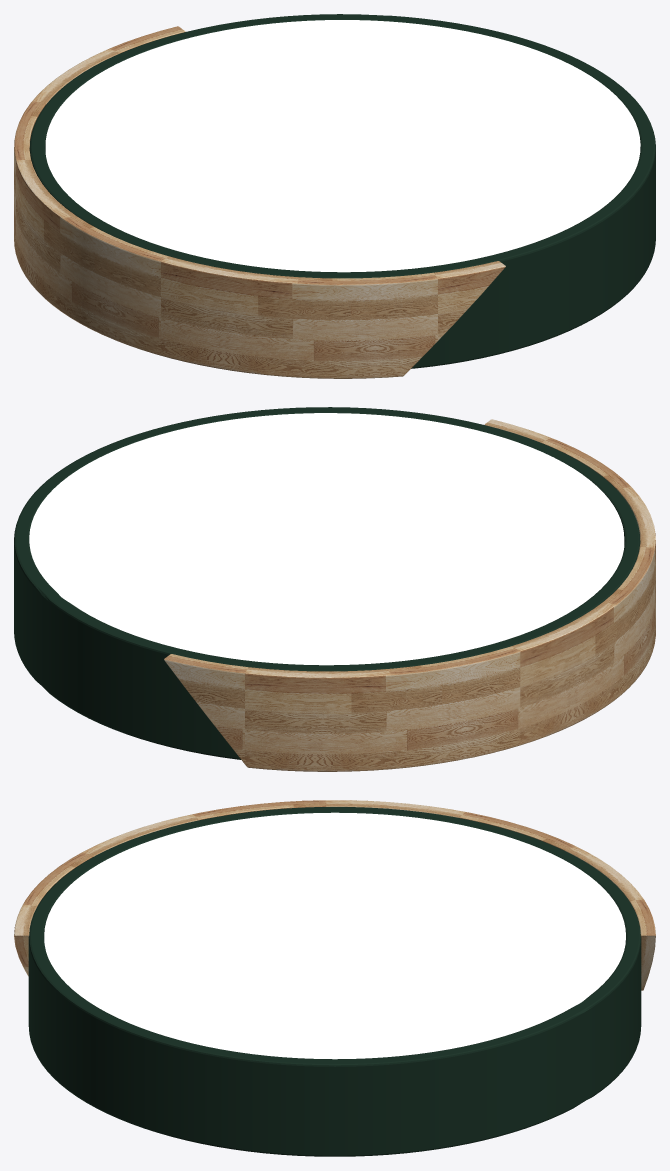
The model's file is light.glb.
3 renders of one model, top to bottom at view 1: azimuth 30°, elevation 25°; view 2: azimuth 150°, elevation 25°; view 3: azimuth 270°, elevation 25°, orthographic. The views are drawn at different scales.
Parts seen in each view (by area): view 1: Obj3d66-635421-2-804, Obj3d66-635421-3-458, Obj3d66-635421-1-480; view 2: Obj3d66-635421-2-804, Obj3d66-635421-3-458, Obj3d66-635421-1-480; view 3: Obj3d66-635421-2-804, Obj3d66-635421-1-480, Obj3d66-635421-3-458.
Boxes of the visible parts, box(x1,y1,x2,y2) form: Obj3d66-635421-2-804: box(45, 20, 640, 272); Obj3d66-635421-3-458: box(14, 26, 505, 378); Obj3d66-635421-1-480: box(29, 14, 655, 368); Obj3d66-635421-2-804: box(29, 413, 624, 665); Obj3d66-635421-3-458: box(164, 419, 655, 771); Obj3d66-635421-1-480: box(14, 407, 640, 759); Obj3d66-635421-2-804: box(44, 812, 625, 1059); Obj3d66-635421-1-480: box(28, 807, 641, 1156); Obj3d66-635421-3-458: box(14, 800, 655, 990).
Size of the model in its own units: 0.615 by 0.1 by 0.629.
Materials: 3 (1 with a texture image).
